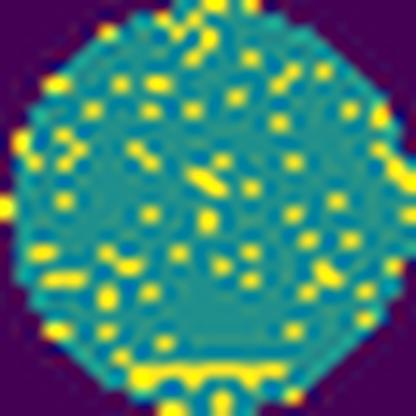Scratch: (121, 351, 292, 403)
